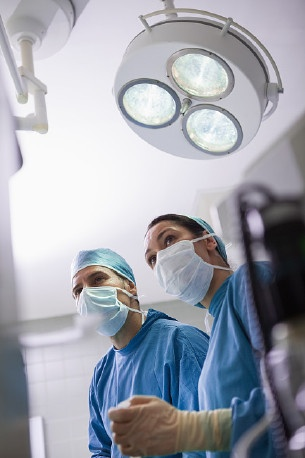Mask: (69, 272, 132, 335)
